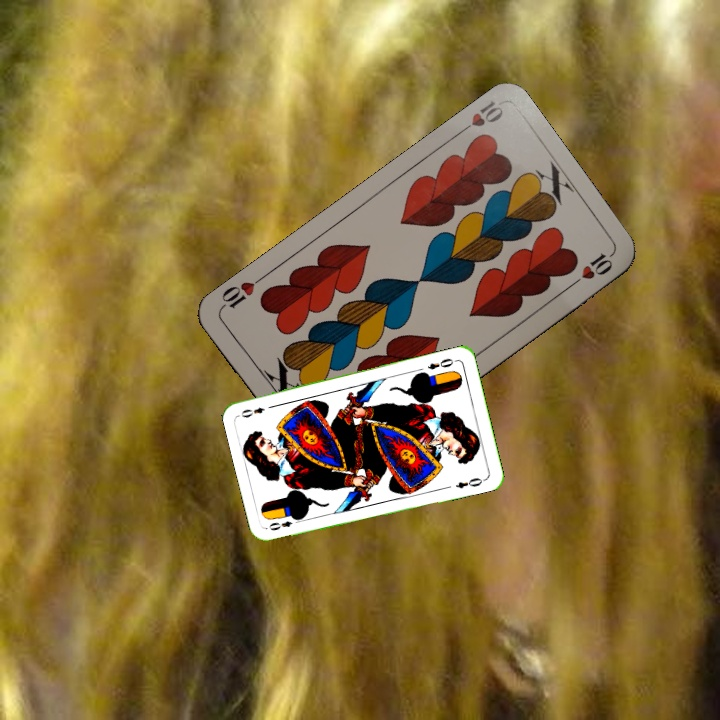EO: (265, 514, 304, 533), (423, 354, 459, 372)
H10: (452, 97, 506, 139)
